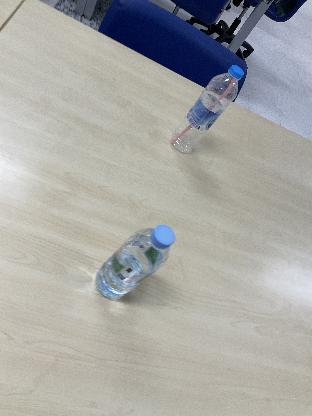Plastic Bottle: (169, 62, 245, 156), (92, 222, 174, 306)
